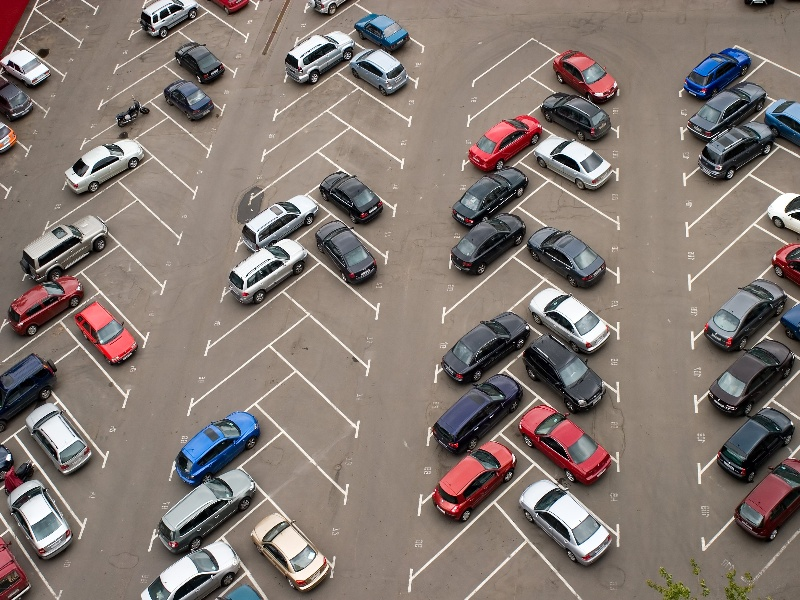car: (157, 471, 255, 553), (518, 480, 612, 565), (519, 404, 610, 484), (433, 375, 523, 455), (432, 442, 516, 521), (440, 313, 530, 386), (523, 334, 605, 413), (708, 340, 795, 414), (251, 513, 330, 593), (176, 411, 259, 485), (703, 278, 787, 349), (21, 215, 110, 282), (717, 406, 795, 482), (140, 542, 240, 600), (733, 457, 800, 542), (5, 479, 73, 559), (530, 288, 611, 353), (229, 239, 309, 304), (450, 212, 526, 275), (26, 401, 90, 475), (528, 227, 606, 287), (686, 82, 767, 138), (65, 139, 144, 196), (241, 194, 319, 251), (698, 122, 773, 180), (534, 137, 614, 191), (454, 169, 526, 227), (9, 278, 81, 335), (1, 353, 56, 427), (75, 302, 138, 366), (467, 116, 541, 170), (317, 220, 377, 285), (285, 30, 354, 84), (542, 93, 611, 144), (683, 48, 751, 99), (554, 50, 618, 103), (321, 172, 383, 224), (350, 48, 408, 96), (355, 13, 410, 53), (175, 40, 224, 83), (142, 1, 199, 37), (164, 81, 214, 122), (1, 542, 33, 600), (1, 51, 48, 87), (766, 99, 800, 142), (767, 192, 800, 233), (772, 244, 800, 284), (1, 84, 33, 118), (1, 125, 15, 151)
